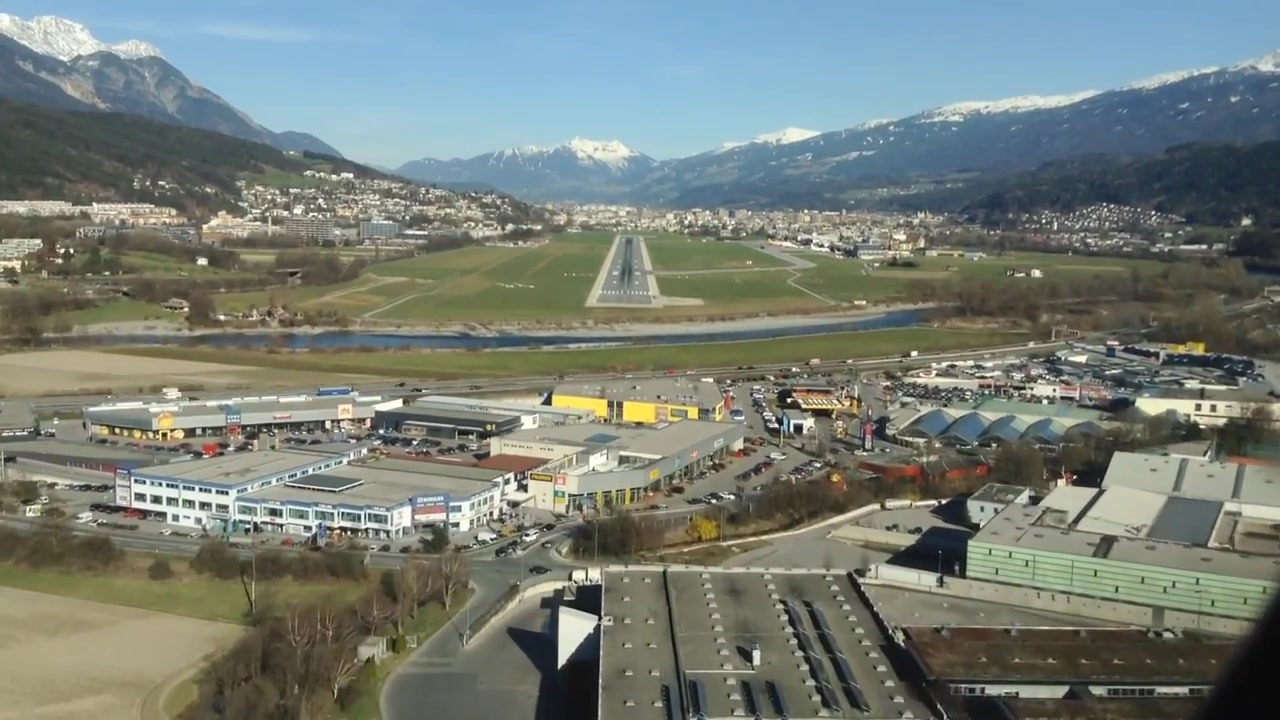entrance: (600, 290, 651, 295)
runway: (593, 237, 655, 302)
